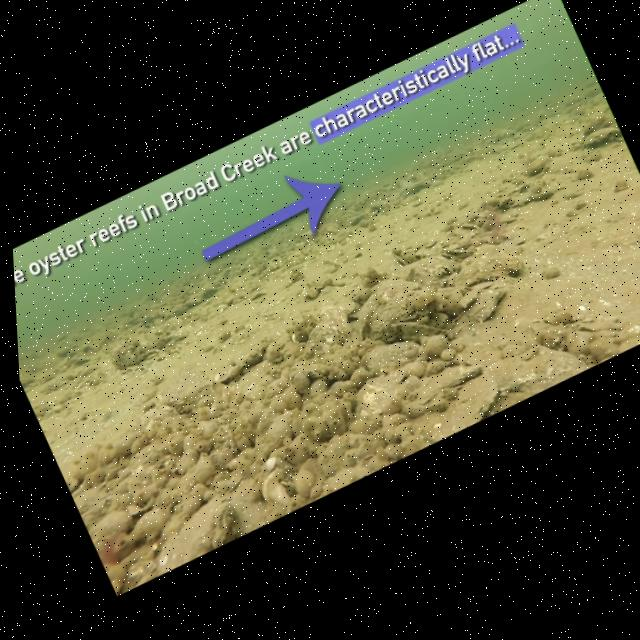Oyster-Closed: (481, 121, 521, 155)
Oyster-Indeterminate: (407, 366, 519, 449), (437, 221, 535, 299), (343, 356, 435, 438), (172, 490, 265, 564), (391, 298, 466, 361), (357, 327, 431, 390), (290, 313, 356, 373), (153, 362, 218, 422), (393, 243, 459, 302), (226, 353, 284, 408), (309, 288, 360, 350), (118, 496, 181, 546), (254, 459, 305, 513), (458, 281, 513, 330), (129, 395, 181, 442), (87, 501, 136, 547), (577, 119, 626, 161), (106, 334, 153, 377), (228, 337, 276, 376), (103, 552, 139, 597), (559, 320, 597, 362), (532, 319, 569, 361), (517, 149, 558, 185), (205, 358, 244, 395), (583, 329, 620, 368), (395, 170, 437, 202), (576, 104, 613, 140), (77, 493, 116, 527), (476, 223, 515, 255), (123, 490, 161, 521), (537, 256, 570, 291), (605, 327, 640, 359), (68, 343, 106, 372), (505, 187, 540, 218), (591, 316, 624, 347), (51, 336, 83, 365), (137, 319, 168, 347), (300, 219, 331, 246), (326, 223, 358, 249), (609, 319, 640, 345), (518, 174, 547, 201), (488, 205, 518, 231), (365, 191, 393, 217), (457, 213, 485, 239), (197, 281, 224, 305), (573, 162, 598, 187), (474, 202, 501, 225), (479, 191, 506, 214), (205, 302, 233, 324), (555, 305, 579, 330), (213, 288, 238, 310), (230, 285, 257, 305), (344, 209, 371, 229), (611, 175, 635, 197), (64, 471, 85, 496), (473, 212, 495, 233), (144, 335, 167, 353), (184, 294, 203, 313), (168, 301, 189, 318), (54, 330, 74, 347), (143, 289, 161, 306), (215, 299, 230, 315)
Oyster-Open: (345, 271, 432, 348), (158, 326, 190, 351), (145, 345, 162, 360)
